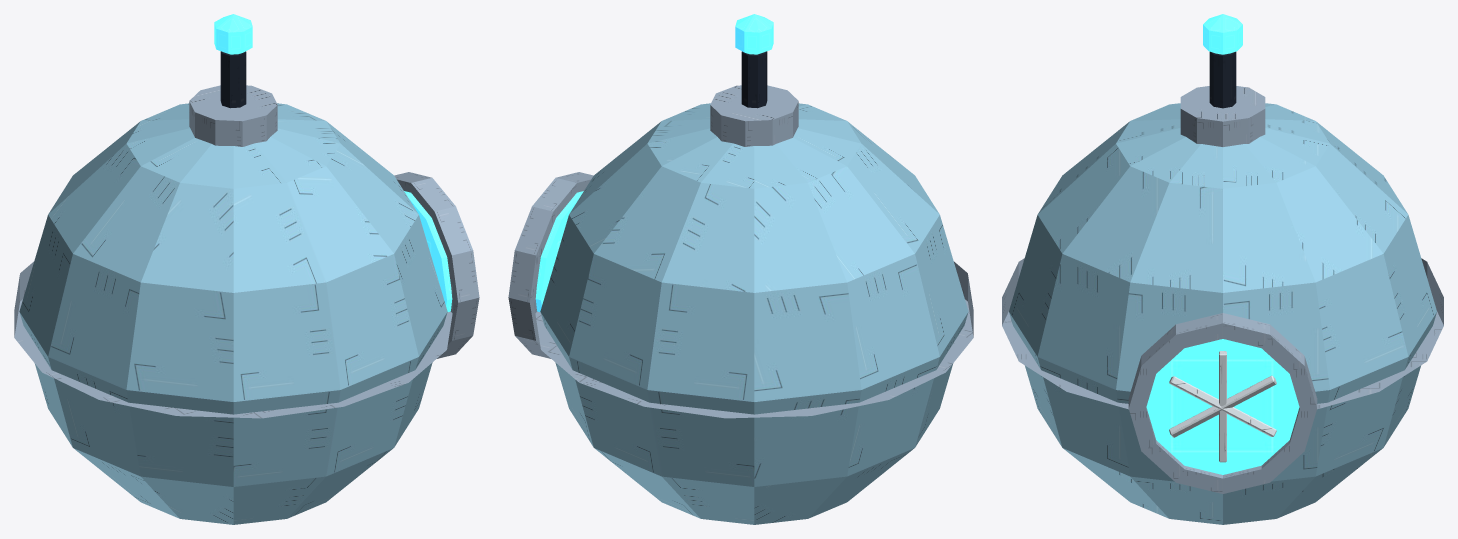
File: frost.glb
3 renders of one model, left to right at view 1: azimuth 30°, elevation 25°; view 2: azimuth 150°, elevation 25°; view 3: azimuth 270°, elevation 25°, orthographic.
Visible parts, largest first — view 1: body, fuse; view 2: body, fuse; view 3: body, fuse.
Part boxes in pixels (x1,y1,x2,y2): body: (14, 85, 479, 524); fuse: (214, 14, 252, 108); body: (508, 85, 973, 524); fuse: (735, 14, 773, 108); body: (1002, 86, 1443, 524); fuse: (1203, 14, 1242, 108).
Size of the model in its own units: 0.2737 by 0.3294 by 0.2683.
Materials: 5 (5 with a texture image).
